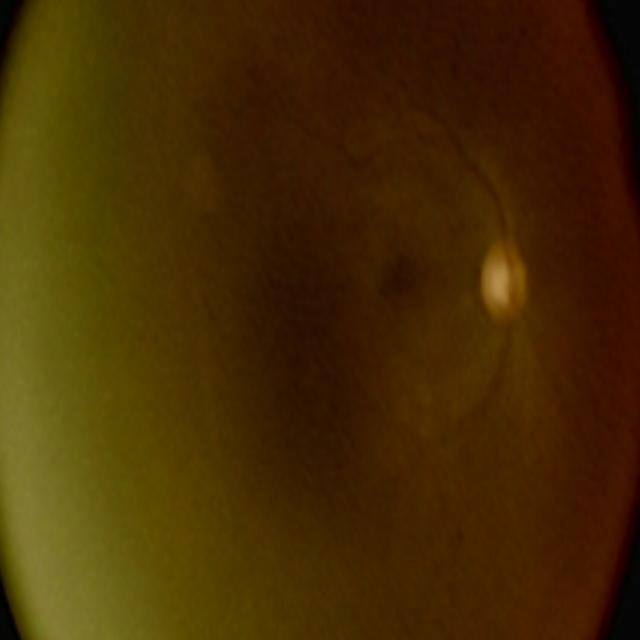optic-nerve: (455, 198, 549, 364)
